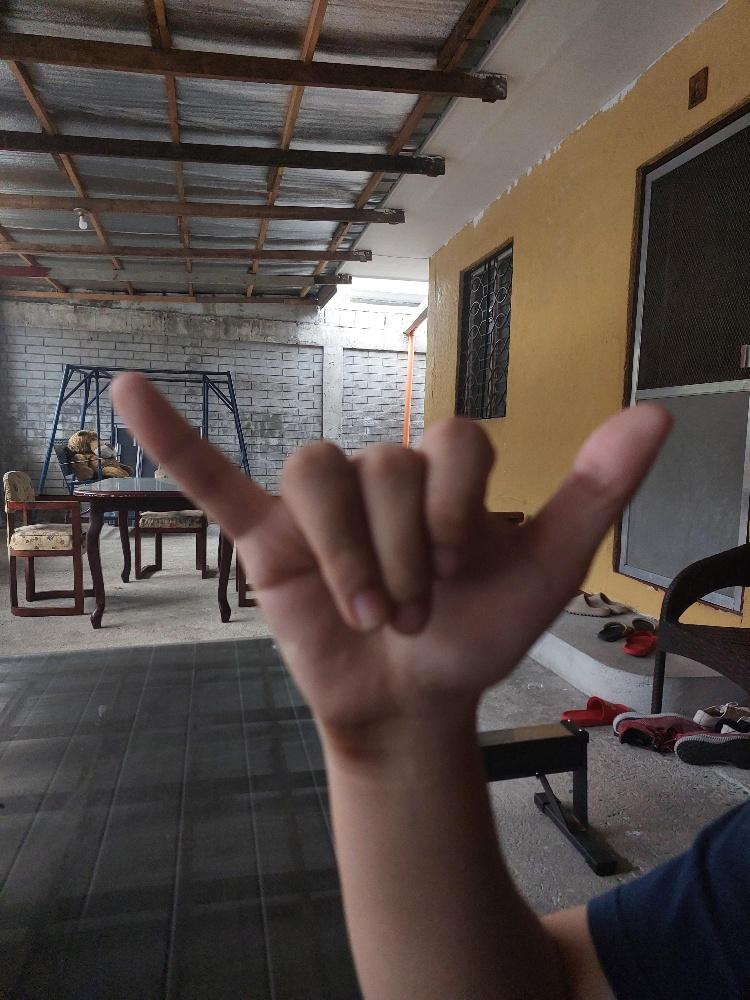y: (105, 365, 674, 726)
